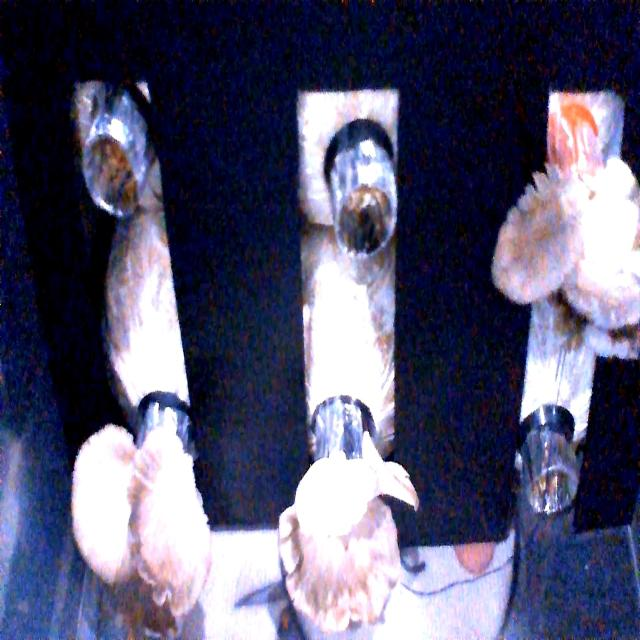big: (280, 438, 423, 636), (70, 422, 204, 602)
nfound: (81, 119, 145, 221), (332, 178, 404, 258), (532, 445, 574, 525)
